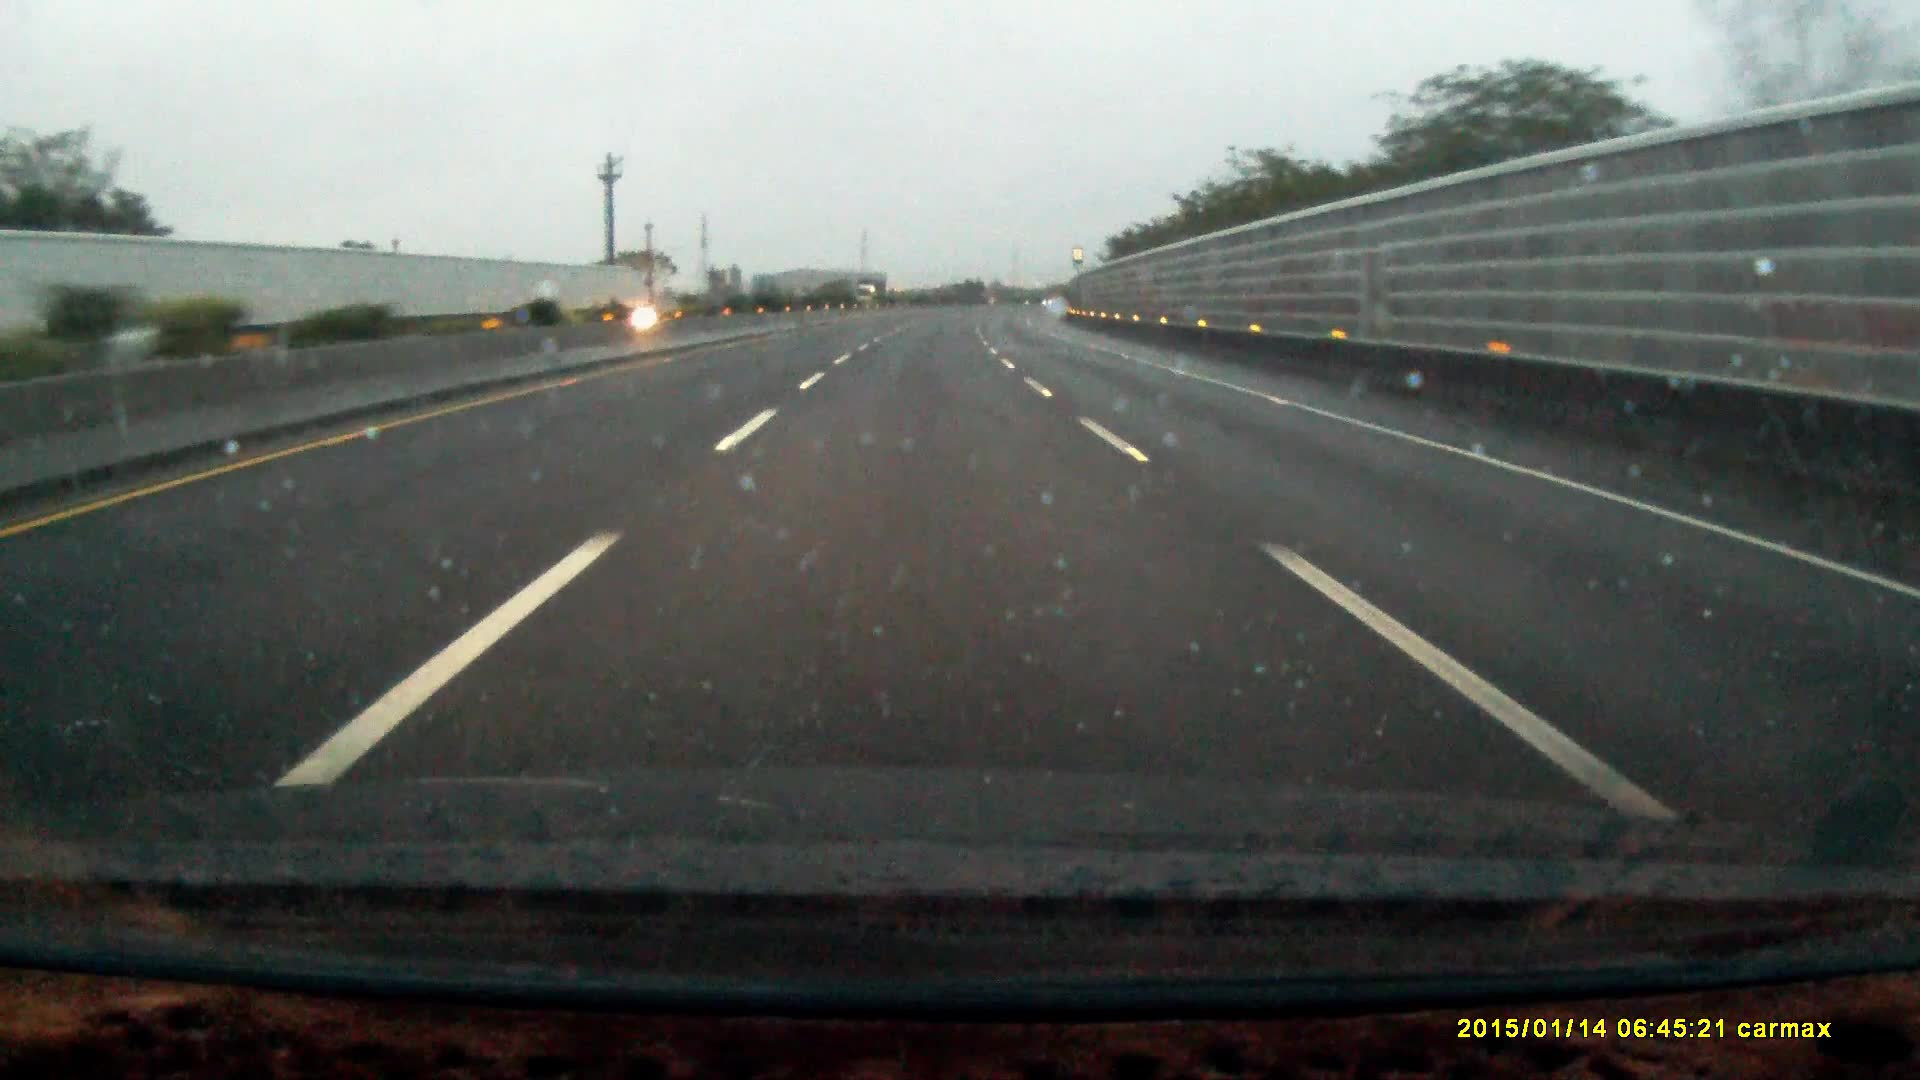vehicle: (857, 278, 889, 305)
